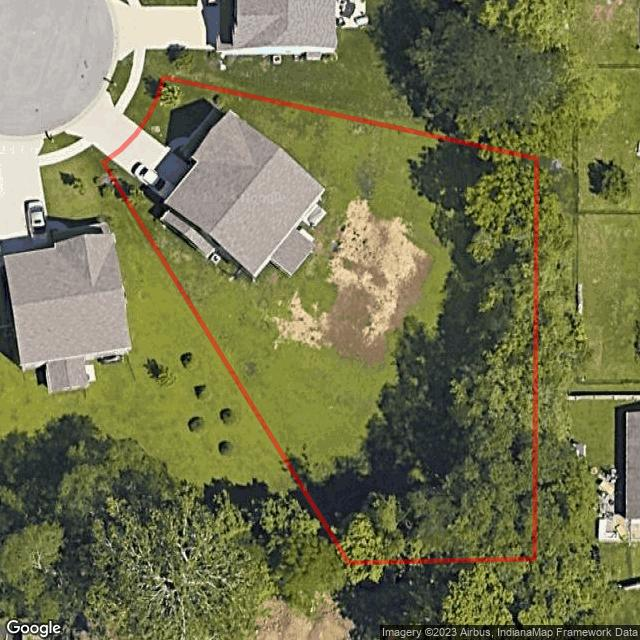Driveway: (115, 131, 191, 200)
Extra Driveway: (66, 92, 136, 155)
Extra Lawn: (125, 73, 163, 126), (108, 62, 131, 104)
Extra Sidewalk: (117, 68, 149, 118)
House: (156, 111, 327, 278)
Sidewalk: (166, 110, 219, 168)
